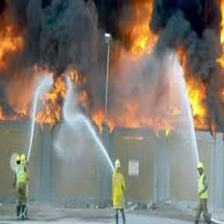fire: (1, 8, 224, 127)
